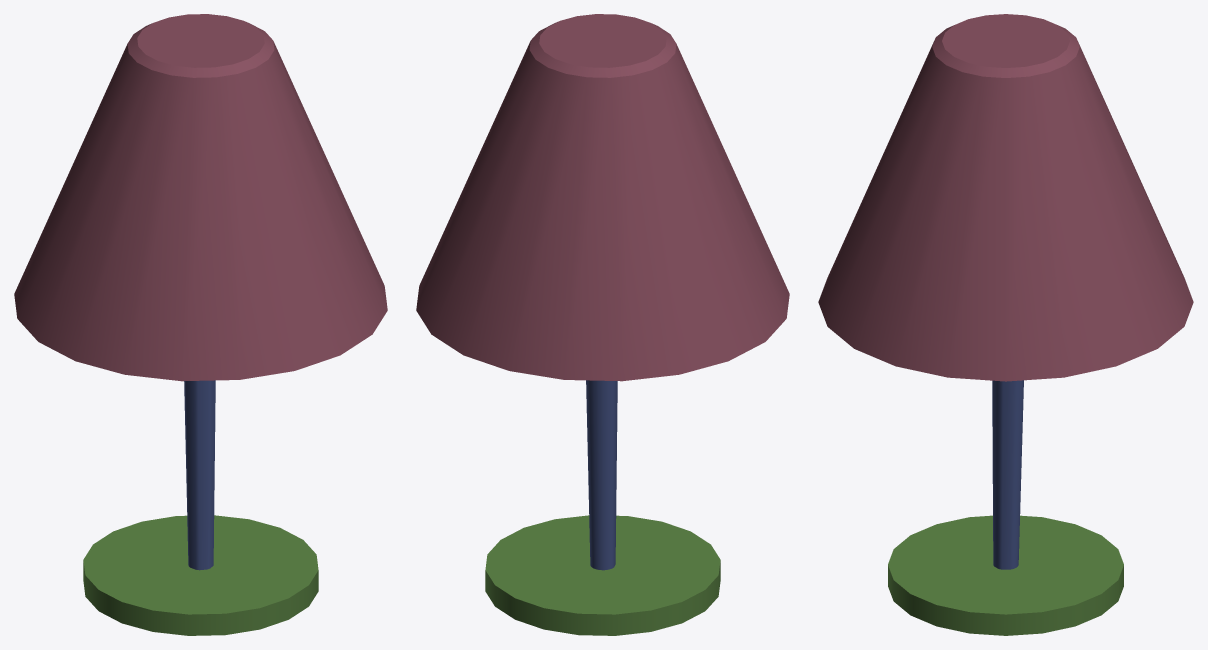
File: smalLamp.fbx
3 views of the same model, side by side, from view 1: azimuth 30°, elevation 25°; view 2: azimuth 150°, elevation 25°; view 3: azimuth 270°, elevation 25° (orthographic).
Parts seen in each view (by area): view 1: smallLamp; view 2: smallLamp; view 3: smallLamp.
Part boxes in pixels (bbox=[...]): smallLamp: bbox=[14, 14, 387, 635]; smallLamp: bbox=[416, 14, 789, 635]; smallLamp: bbox=[818, 14, 1193, 635].
Bounding box in the file's own units: 0.4951 × 0.7932 × 0.4951.
